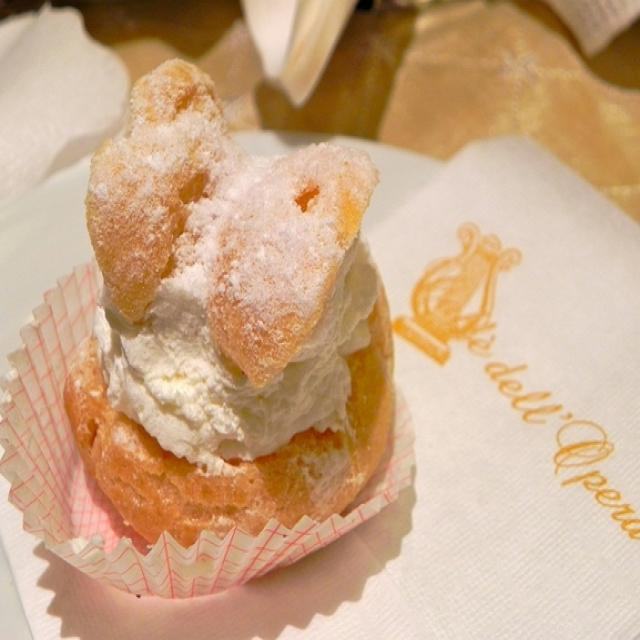炸货点心: (28, 67, 471, 597)
蛋糕甜品: (28, 67, 471, 597)
